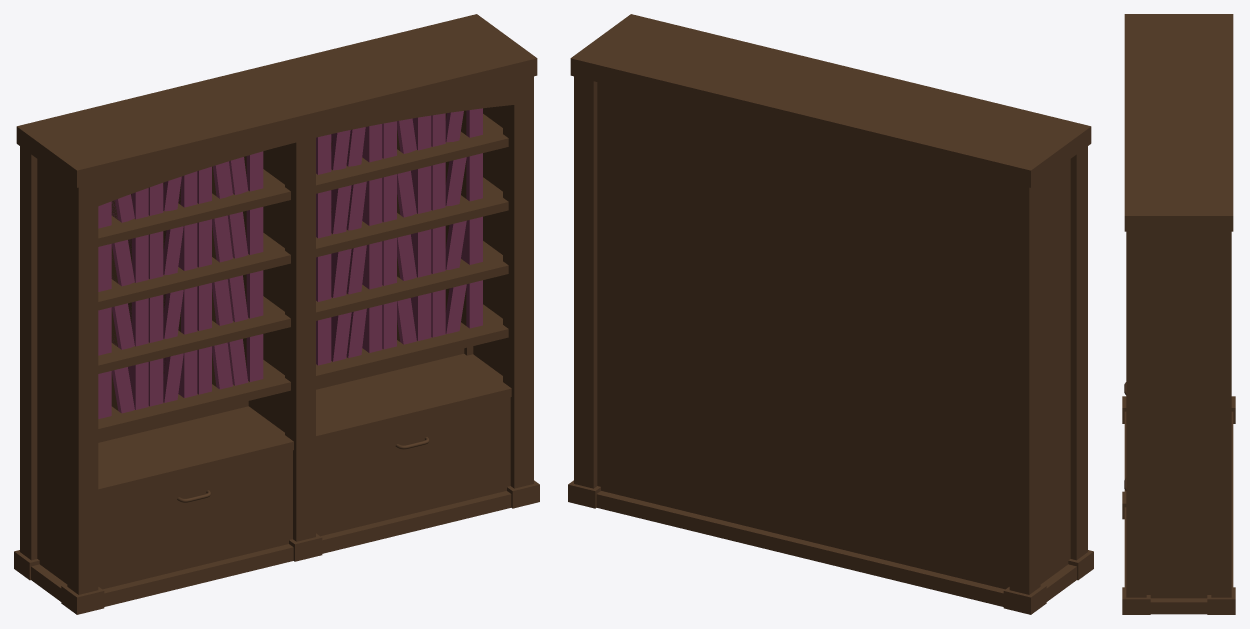
File: bookshelfPink.fbx
3 views of the same model, side by side, from view 1: azimuth 30°, elevation 25°; view 2: azimuth 150°, elevation 25°; view 3: azimuth 270°, elevation 25° (orthographic). The views are drawn at different scales.
Parts seen in each view (by area): view 1: bookshelfPink; view 2: bookshelfPink; view 3: bookshelfPink.
Part boxes in pixels (<box>): bookshelfPink: <box>14,14,539,614</box>; bookshelfPink: <box>568,14,1093,614</box>; bookshelfPink: <box>1122,14,1235,614</box>.
Bounding box in the file's own units: 300 × 275 × 70.87.
